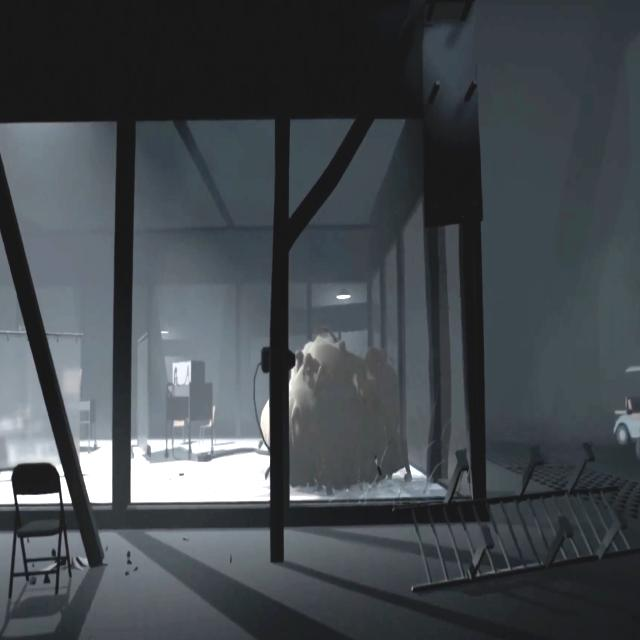blob: (289, 336, 410, 479)
